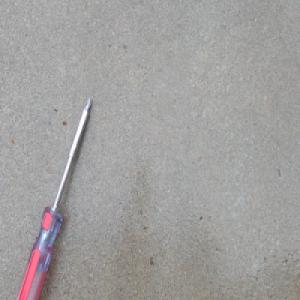Screwdriver: (12, 95, 92, 300)
